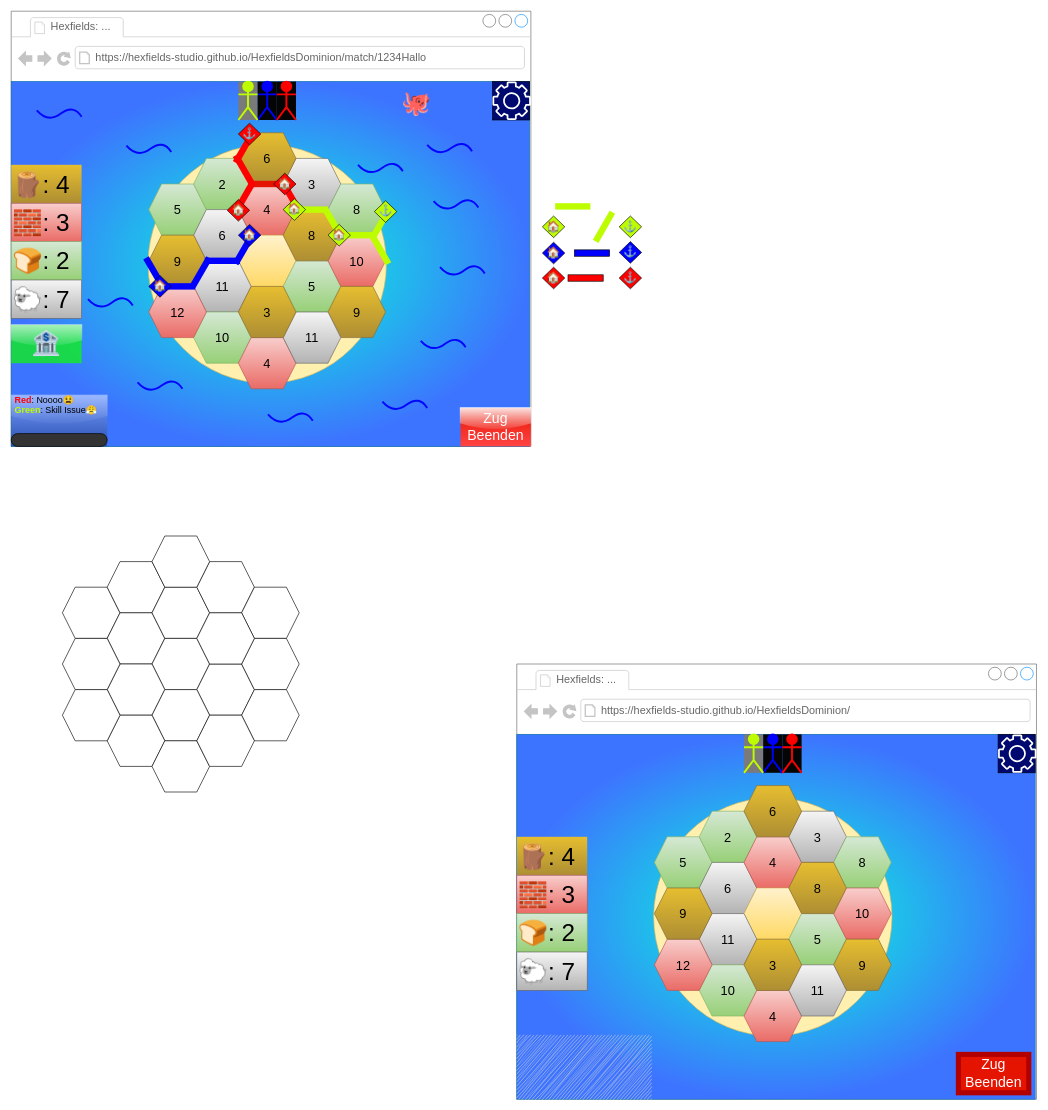
Some shapes in this 1048 by 1110 pixel diagram are drawn without their labels. Here are the shapes that lost their labels. From the top down, the box of each, then its label:
(11, 433, 107, 446): Type to Chat...
(516, 1035, 651, 1099): Green: omg so bad XDXDD
